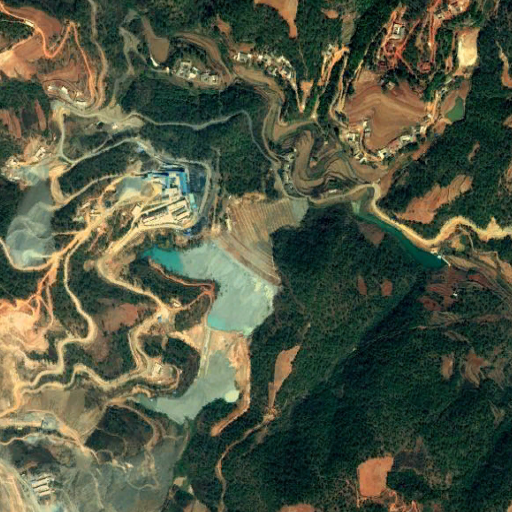tp: (142, 194, 320, 424)
